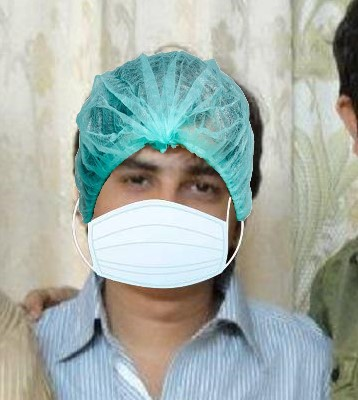with_mask_and_cap: (76, 57, 253, 290)
